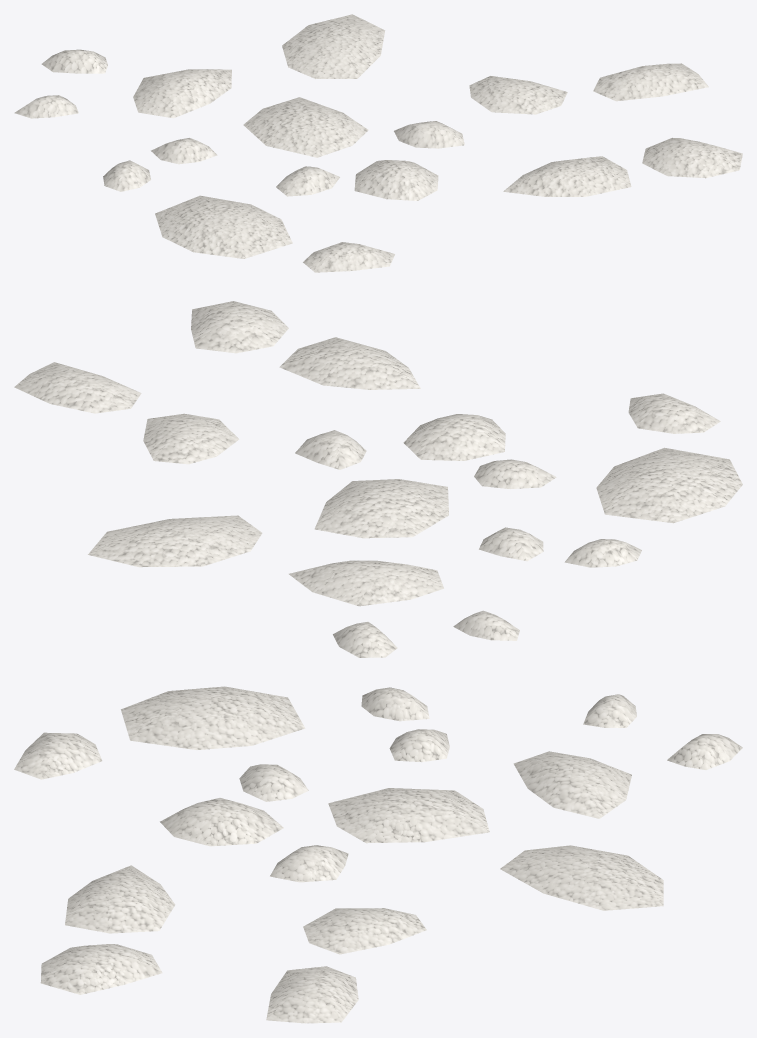
File: food_mound_empty.fbx
3 views of the same model, one above another, from view 1: azimuth 30°, elevation 25°; view 2: azimuth 150°, elevation 25°; view 3: azimuth 270°, elevation 25° (orthographic). The views are drawn at different scales.
Visible parts, largest first — view 1: FoodMound_Empty; view 2: FoodMound_Empty; view 3: FoodMound_Empty.
Boxes of the visible parts, x1,y1,x2,y2 form: FoodMound_Empty: (14, 14, 742, 272); FoodMound_Empty: (14, 301, 742, 657); FoodMound_Empty: (14, 686, 742, 1023).
Bounding box in the file's own units: 0.7232 × 0.0189 × 0.6611.
